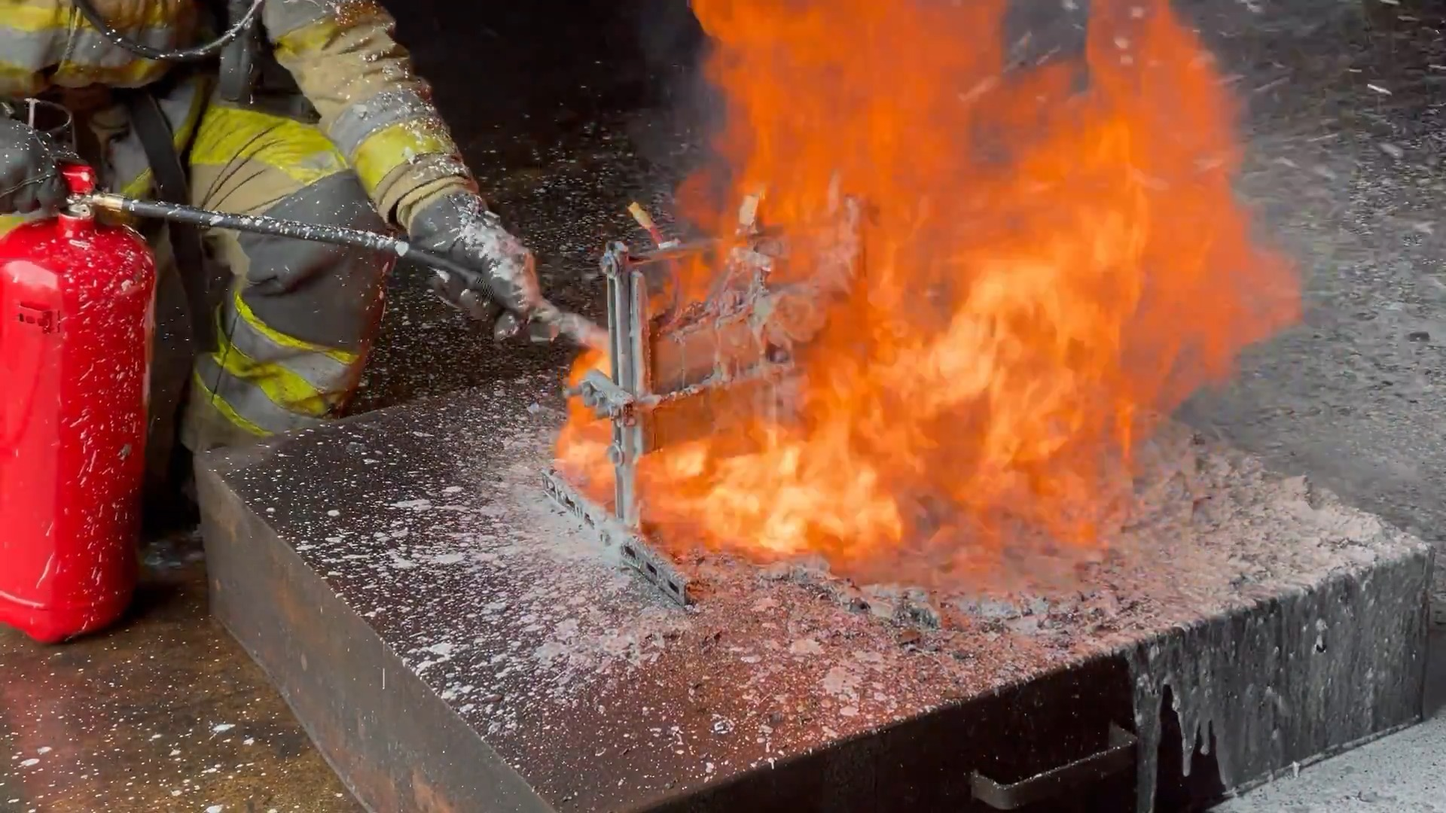fire: (551, 0, 1307, 597)
